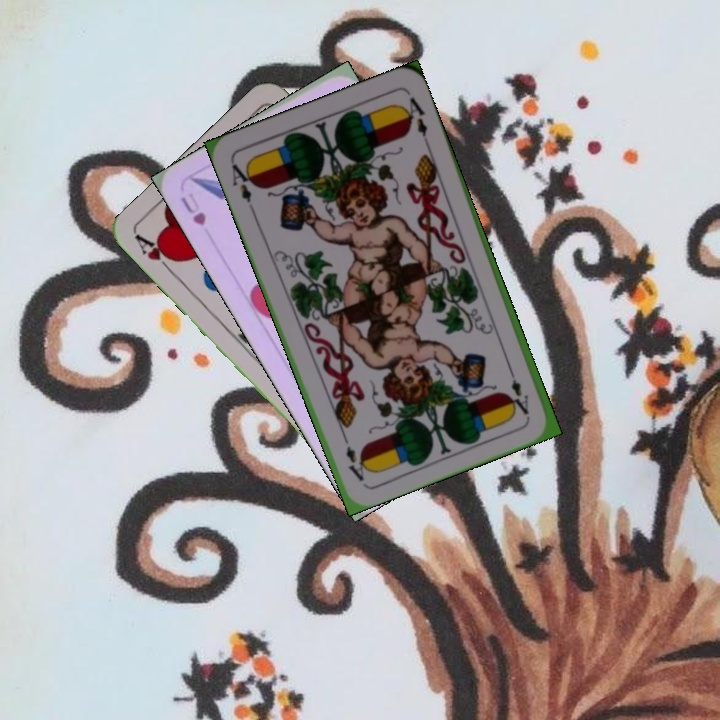EA: (227, 158, 258, 214), (504, 362, 532, 417)
HA: (131, 230, 180, 278)
HU: (176, 188, 209, 229)
